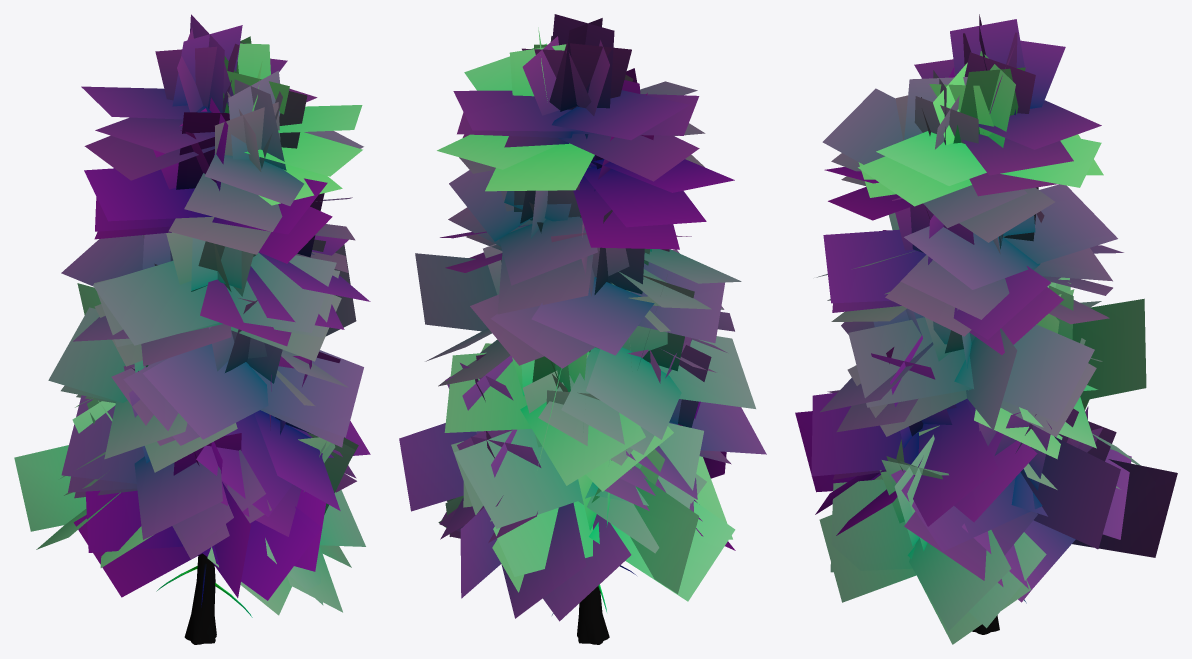
File: Tree_2_4.fbx
3 views of the same model, side by side, from view 1: azimuth 30°, elevation 25°; view 2: azimuth 150°, elevation 25°; view 3: azimuth 270°, elevation 25° (orthographic).
Visible parts, largest first — view 1: _4; view 2: _4; view 3: _4.
Boxes of the visible parts, bbox=[...] form: _4: bbox=[14, 14, 370, 644]; _4: bbox=[399, 14, 766, 644]; _4: bbox=[795, 14, 1177, 644].
Bounding box in the file's own units: 877 × 1671 × 948.
